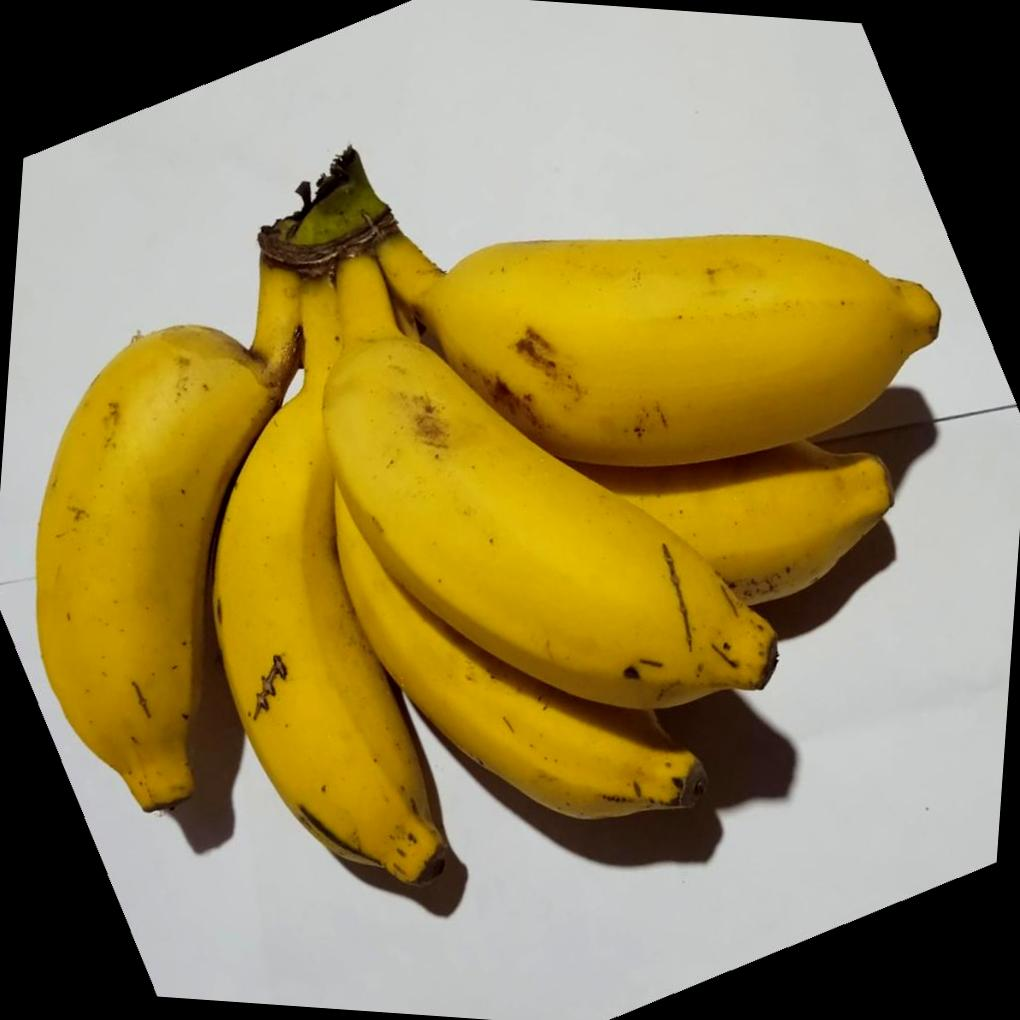Banana Ripe: (6, 145, 978, 910), (271, 260, 826, 720), (165, 343, 544, 965), (382, 193, 1016, 498), (5, 276, 260, 856)
